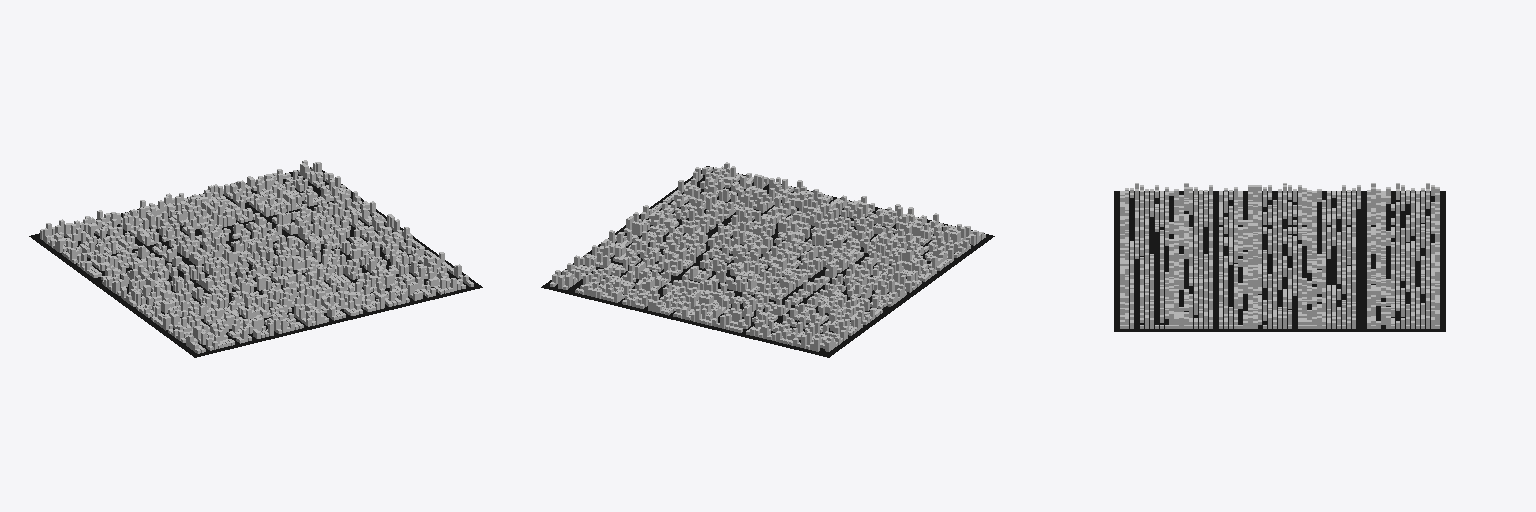
The model's file is city.obj.
3 renders of one model, left to right at view 1: azimuth 30°, elevation 25°; view 2: azimuth 150°, elevation 25°; view 3: azimuth 270°, elevation 25°, orthographic.
Parts seen in each view (by area): view 1: Plane.003, Plane_Plane.004; view 2: Plane.003, Plane_Plane.004; view 3: Plane.003, Plane_Plane.004.
Boxes of the visible parts, <box> form: Plane.003: <box>40,160,473,353</box>; Plane_Plane.004: <box>29,167,482,357</box>; Plane.003: <box>550,162,985,351</box>; Plane_Plane.004: <box>541,166,994,357</box>; Plane.003: <box>1120,183,1439,328</box>; Plane_Plane.004: <box>1114,191,1445,331</box>.
Bounding box in the file's own units: 416 × 16.04 × 416.